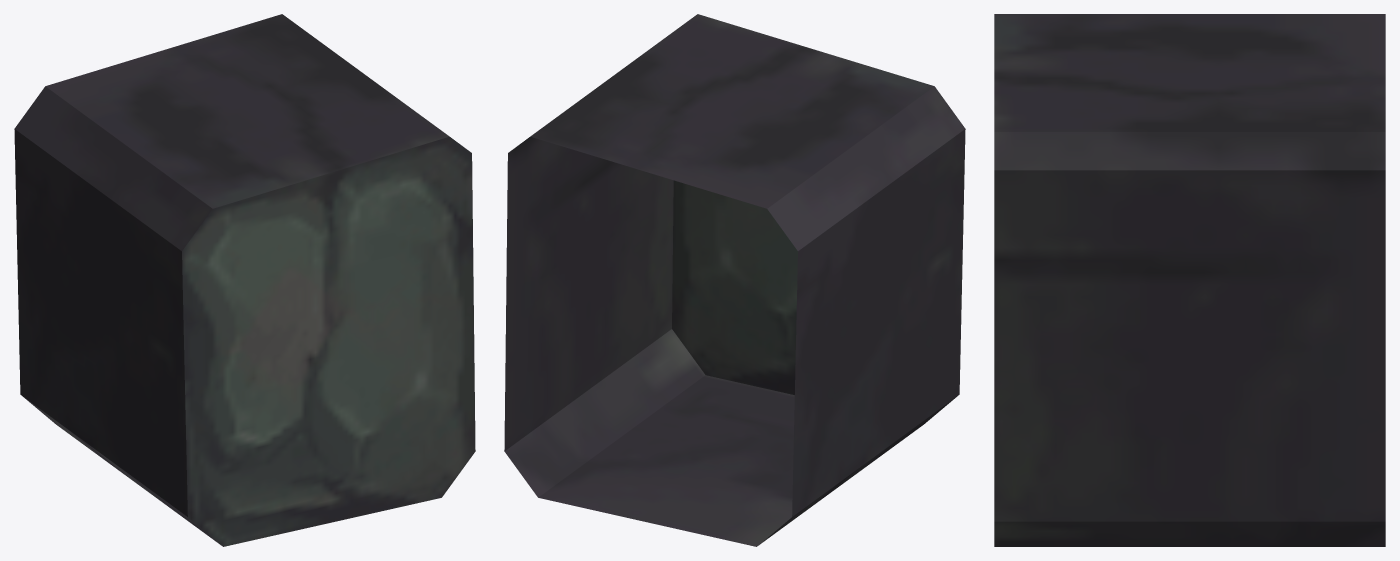
File: yw_shanlin_doorstones_23.FBX
3 renders of one model, left to right at view 1: azimuth 30°, elevation 25°; view 2: azimuth 150°, elevation 25°; view 3: azimuth 270°, elevation 25°, orthographic. The views are drawn at different scales.
Parts seen in each view (by area): view 1: yw_shanlin_doorstones_23; view 2: yw_shanlin_doorstones_23; view 3: yw_shanlin_doorstones_23.
Part boxes in pixels (x1=…): yw_shanlin_doorstones_23: x1=14, y1=14, x2=475, y2=546; yw_shanlin_doorstones_23: x1=504, y1=14, x2=965, y2=546; yw_shanlin_doorstones_23: x1=994, y1=14, x2=1385, y2=546.
Bounding box in the file's own units: 21.63 × 25.3 × 21.38.
